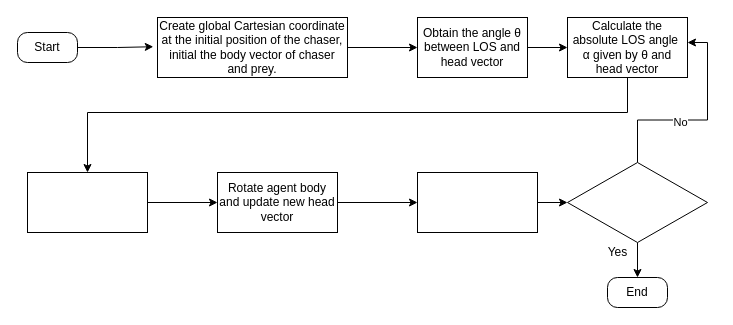
This 733x325 diagram has some shape labels left out. Each missing label, with the centre of its shape:
"Intercept the prey" goes at point (637, 202).
"Move the agent straightly" goes at point (477, 202).
"Using PID controller to keep α unchanged" goes at point (87, 202).
